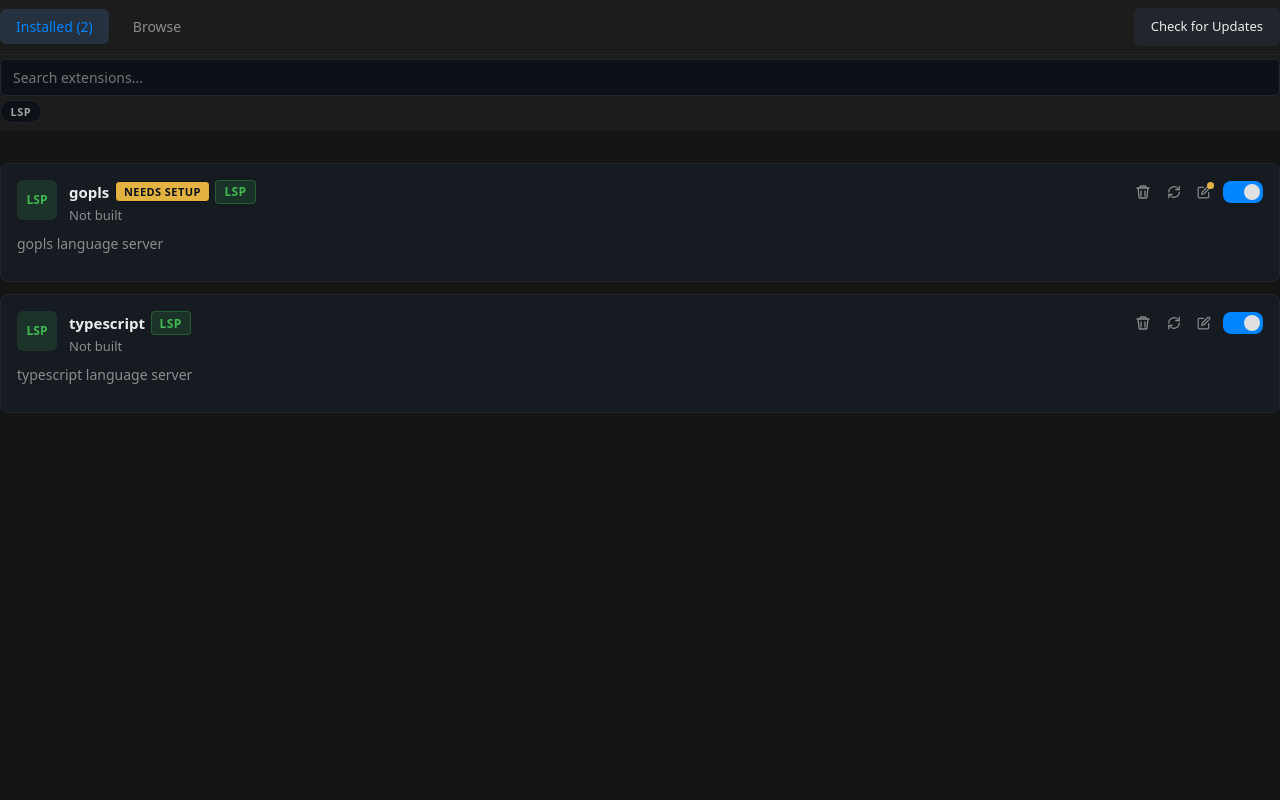
Test: Settings → Extensions: saying who needs a dependency directory › takes the badge to the dialog that states the declared location
expect the text "gopls" is shown: met, box [69,180,109,203]
Click the button "Needs setup" at [162, 192], box [115,181,210,202]
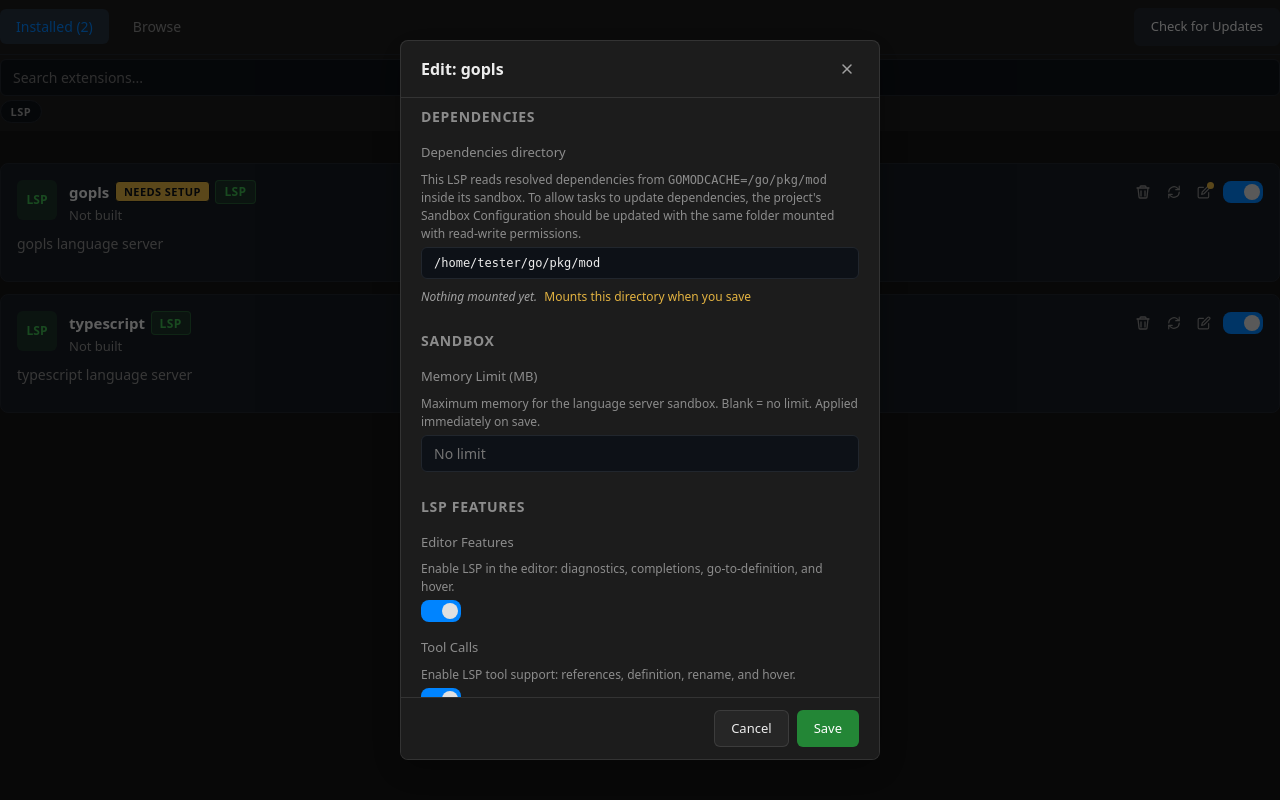
expect the field with id "edit-dep-path" is shown: met, box [421,246,859,278]
expect the heading "Dependencies" is shown: met, box [421,107,535,126]
expect the element with class "field-desc" shows "GOMODCACHE=/go/pkg/mod": met, box [668,172,827,186]
